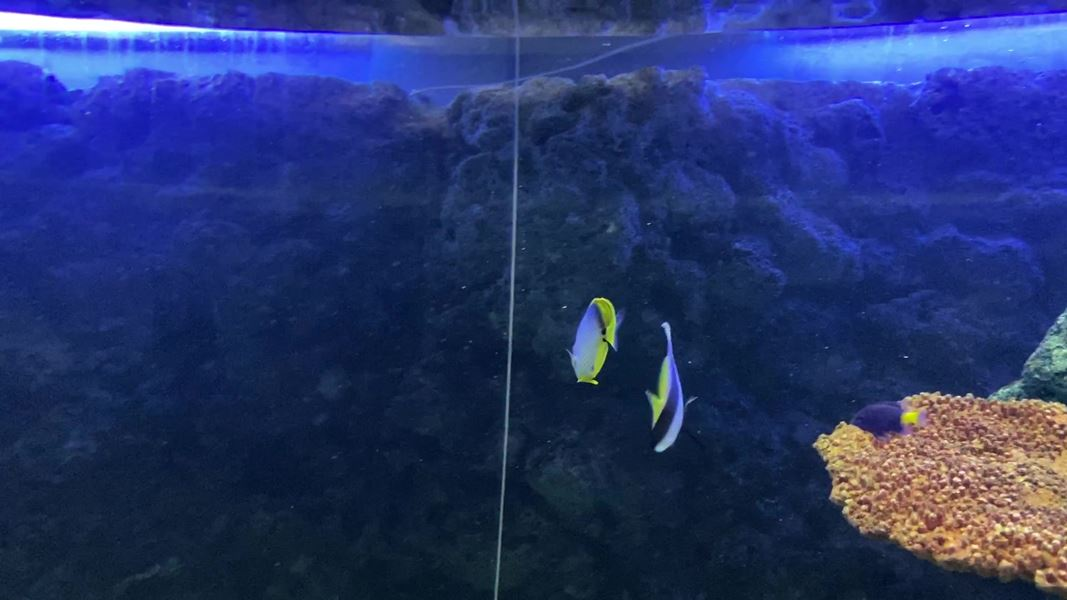Black-backed butterflyfish: (561, 291, 635, 393)
